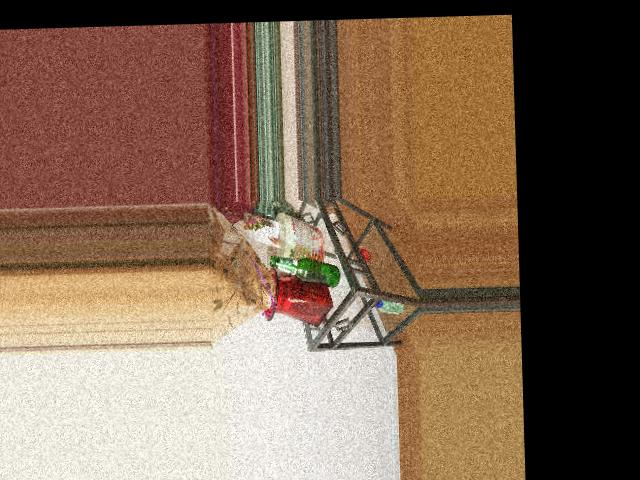beer: (269, 254, 341, 288)
